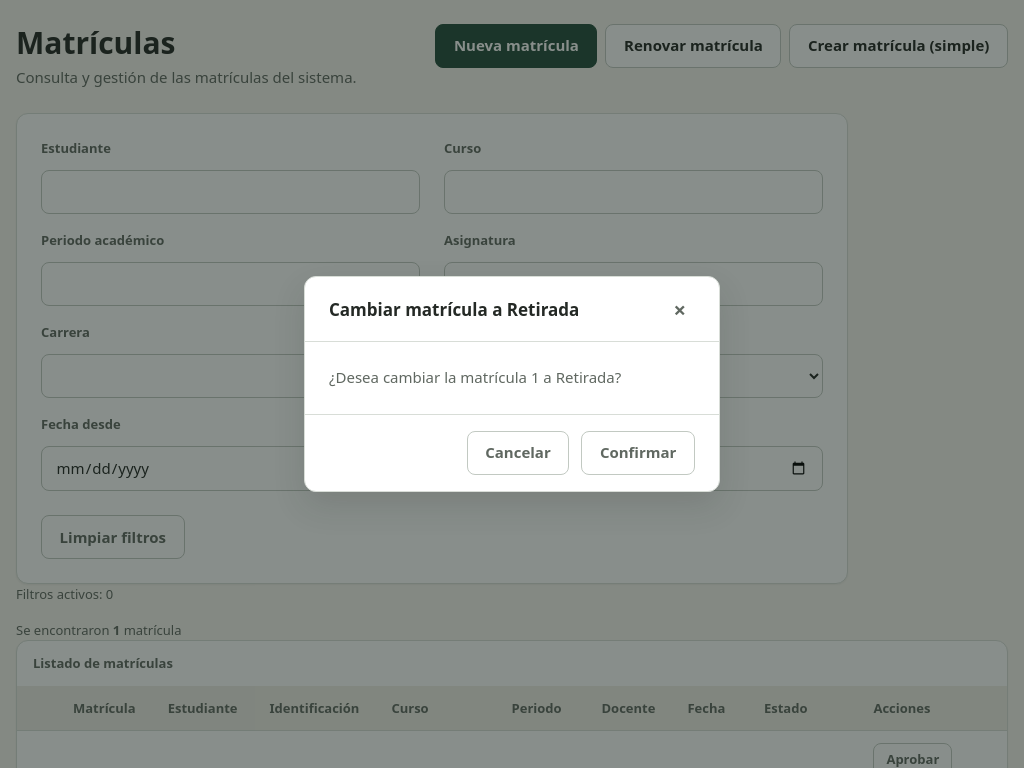
ListarMatriculasComponent › muestra error al cambiar estado
Click the button "Confirmar" at (638, 453), box [581, 431, 695, 475]
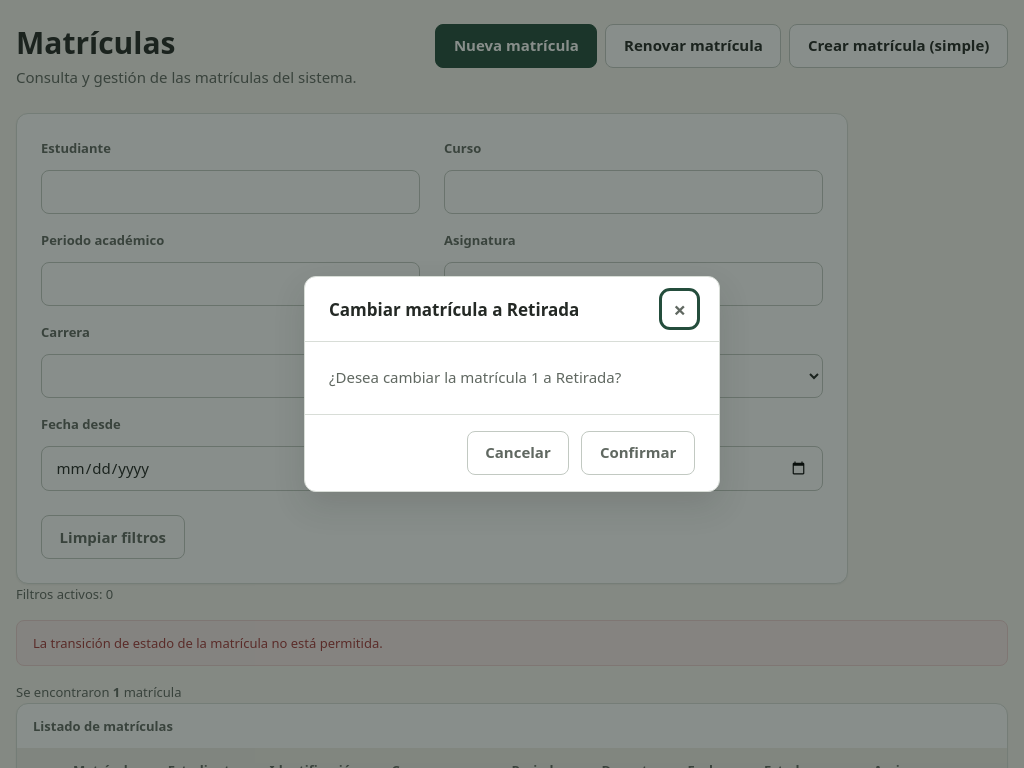
Now the text "La transición de estado de la matrícula no está permitida." is shown, box [16, 620, 1008, 666]
